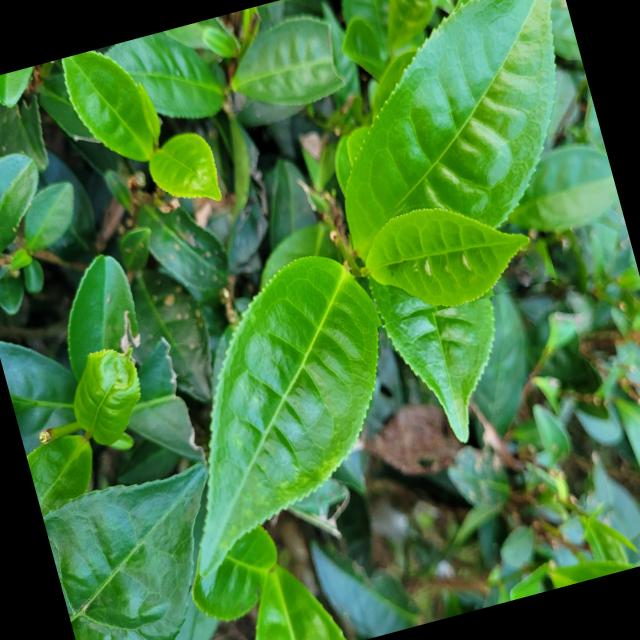Catagory A(1-2 days): (333, 166, 555, 330)
